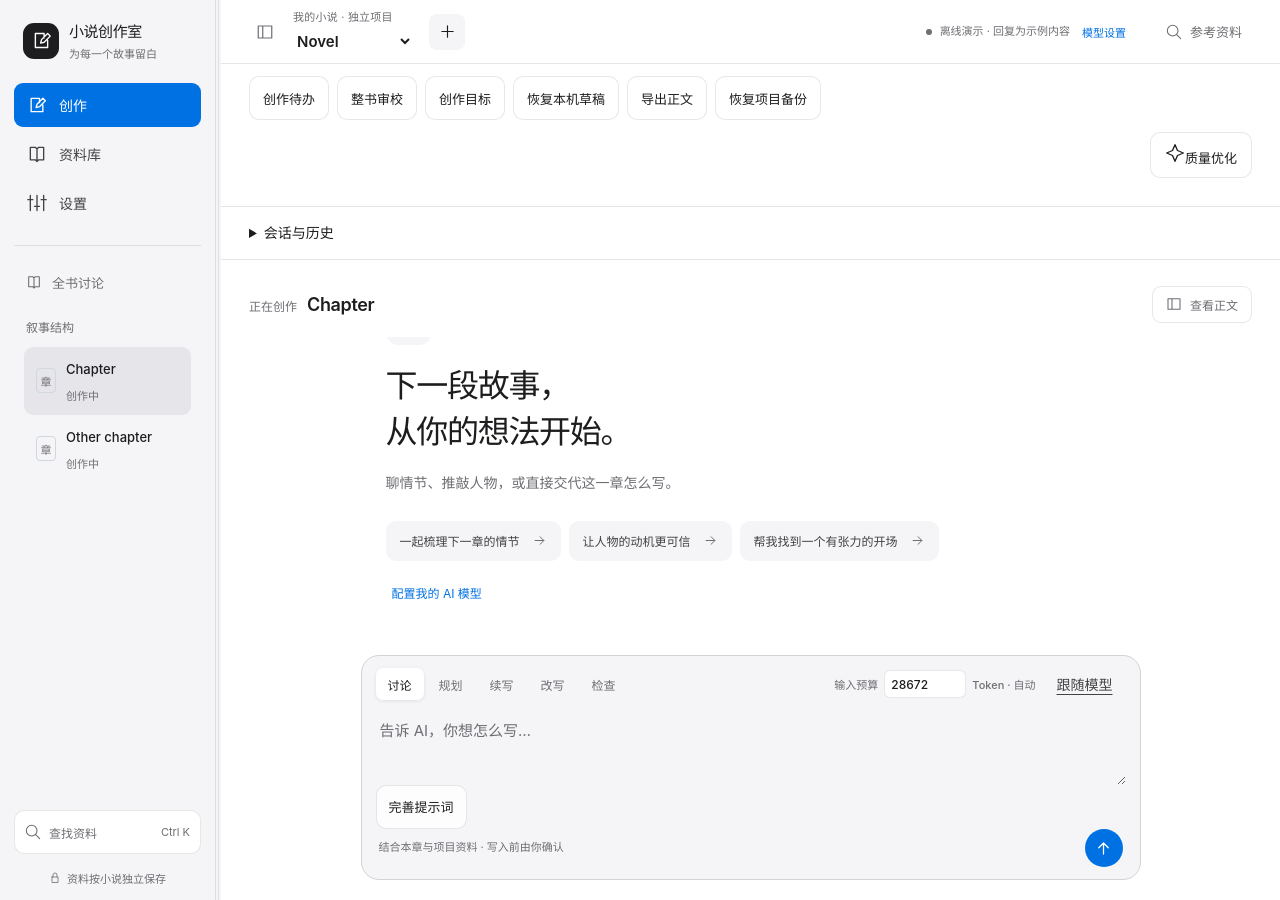
Test case: acknowledges a summary conflict, refreshes its blocker, and directs the author
(page scrolled)
Expected: the text box named "给 AI 的消息" is shown, [376,702,1126,785]
Click the button "查看正文": (1202, 304) [1152,286,1252,323]
(page scrolled)
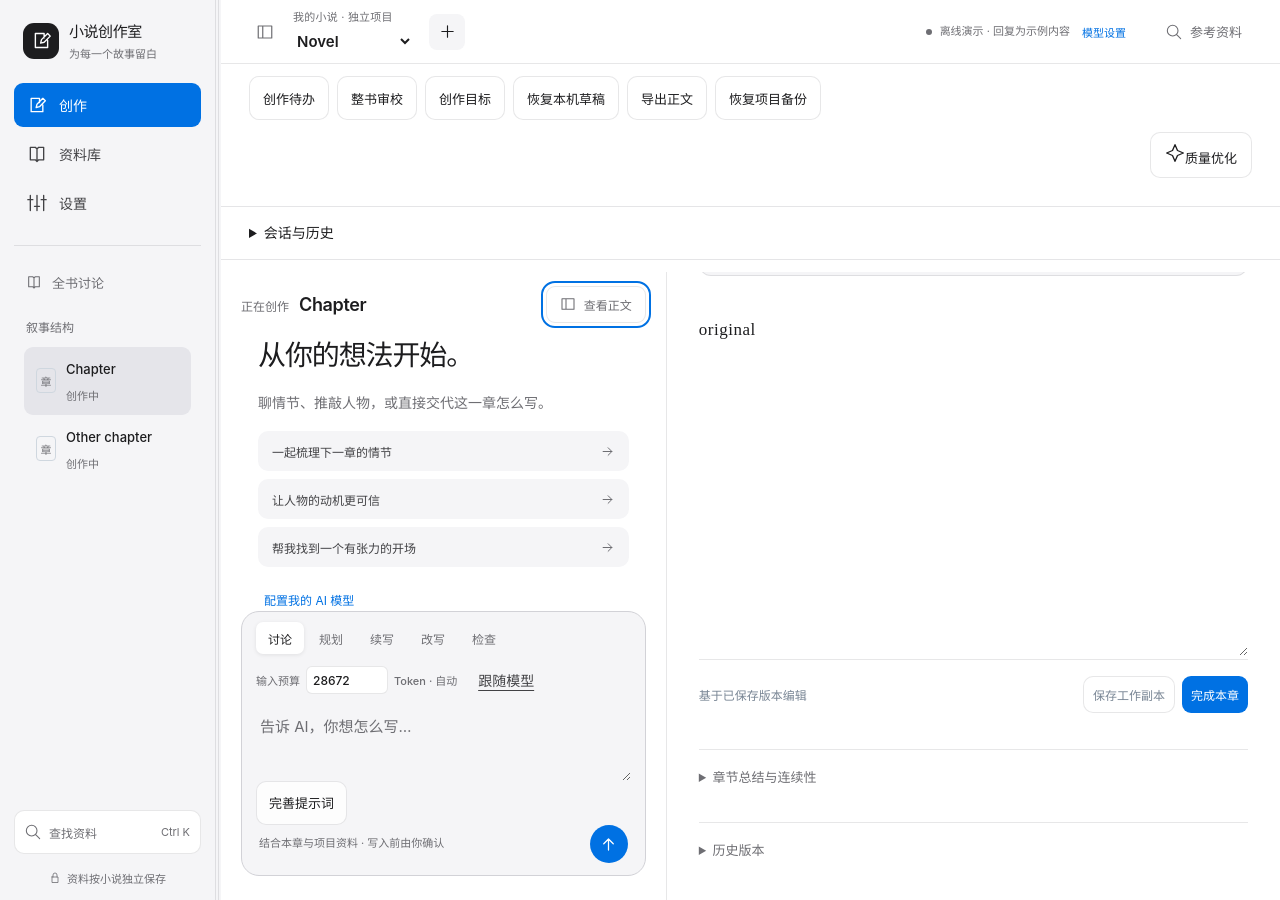
Click the button "完成本章": (1215, 695) [1182,676,1248,713]
(page scrolled)
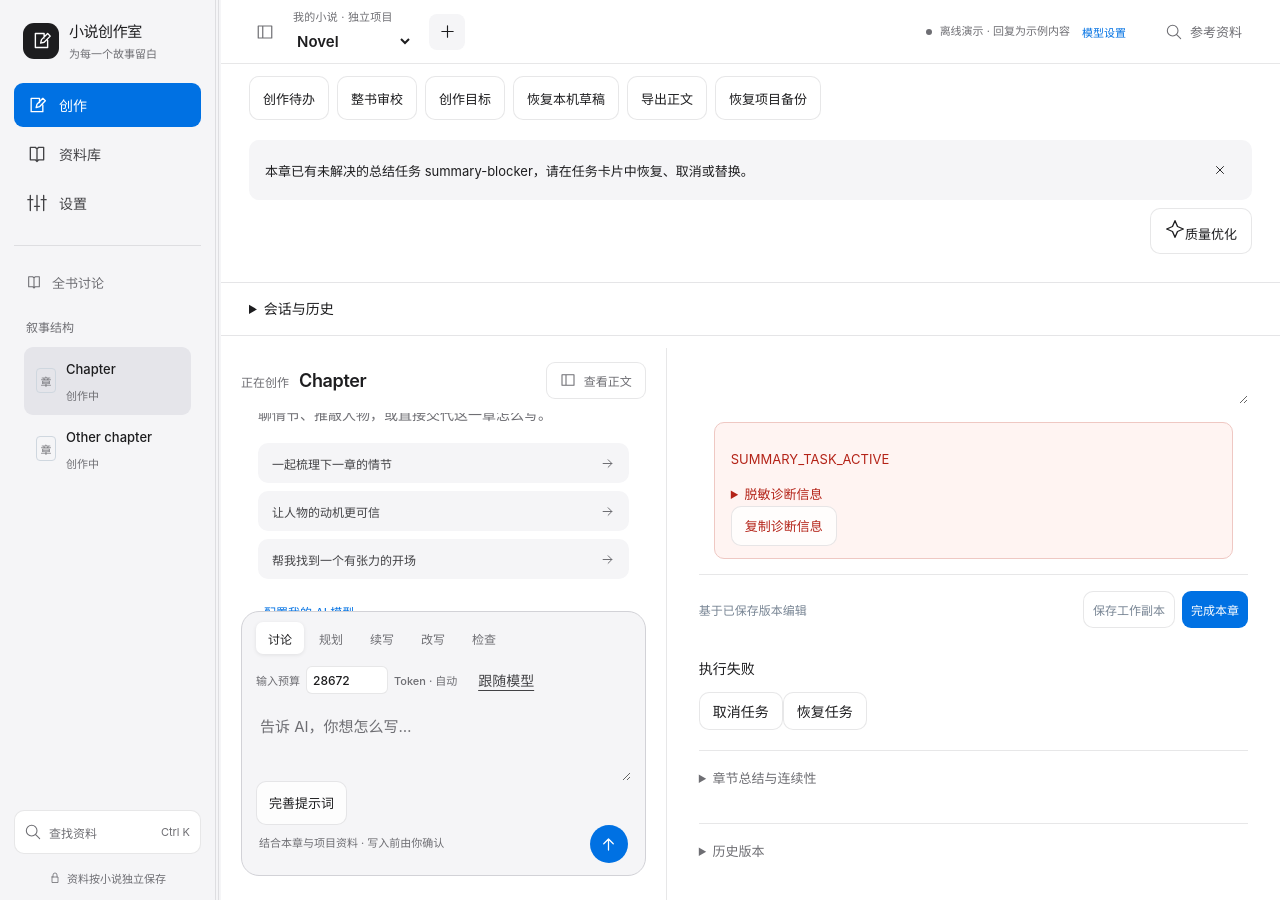
Result: the text "本章已有未解决的总结任务 summary-blocker，请在任务卡片中恢复、取消或替换。" is shown at [249,140,1252,200]
Result: the text "执行失败" is shown at [699,660,755,677]
